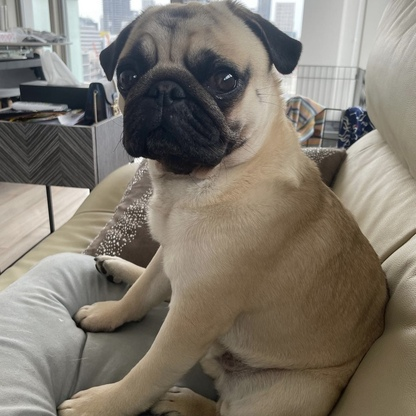Pug: (53, 1, 392, 416)
